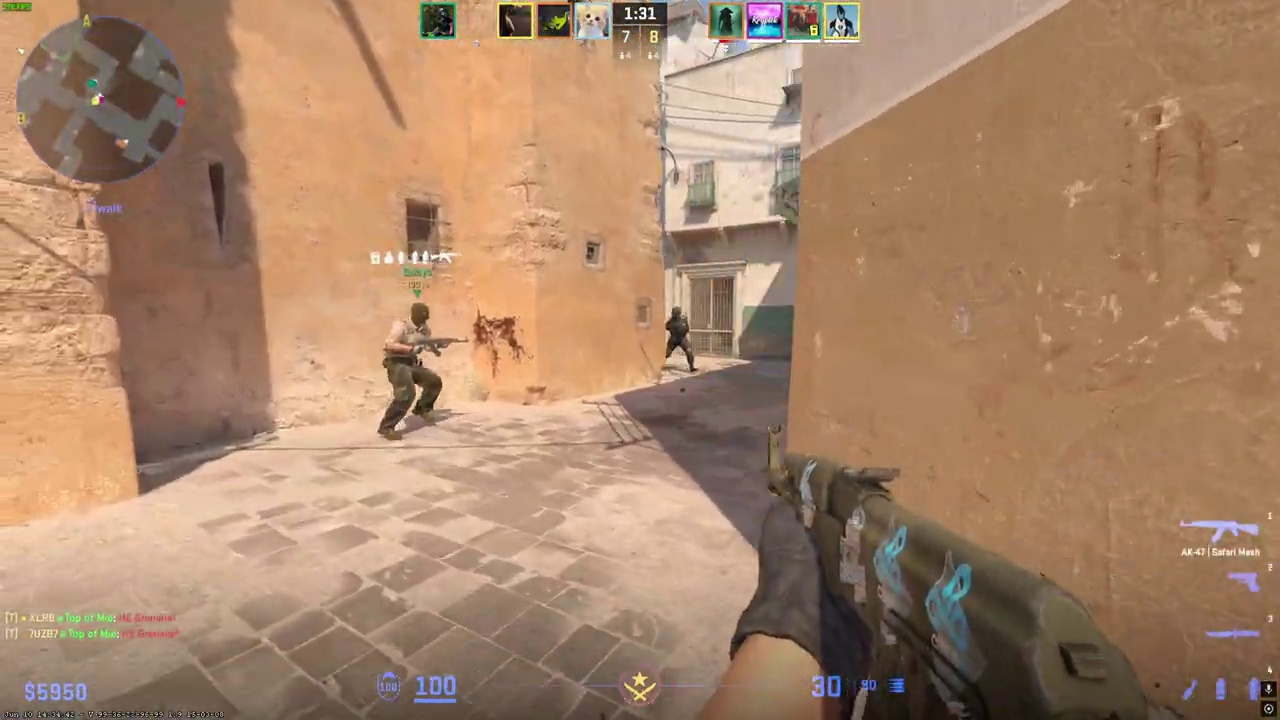CT: (665, 307, 696, 372)
Terrorist: (377, 302, 449, 440)
